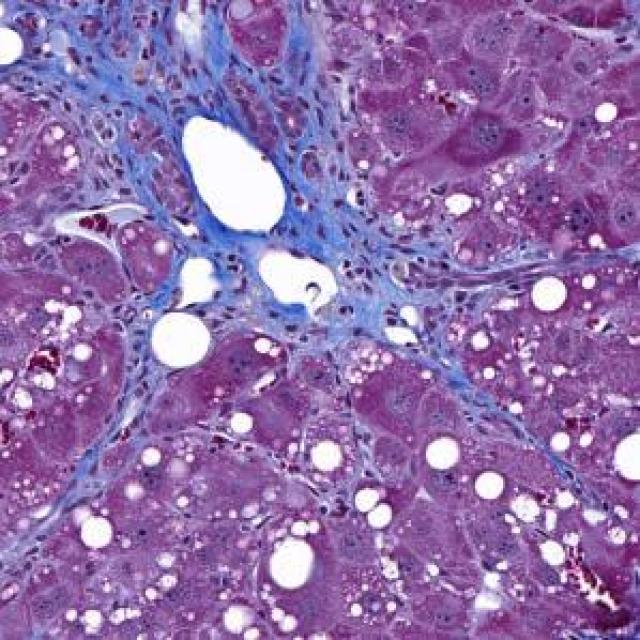fibrosis: (30, 7, 349, 174), (268, 208, 494, 370)
